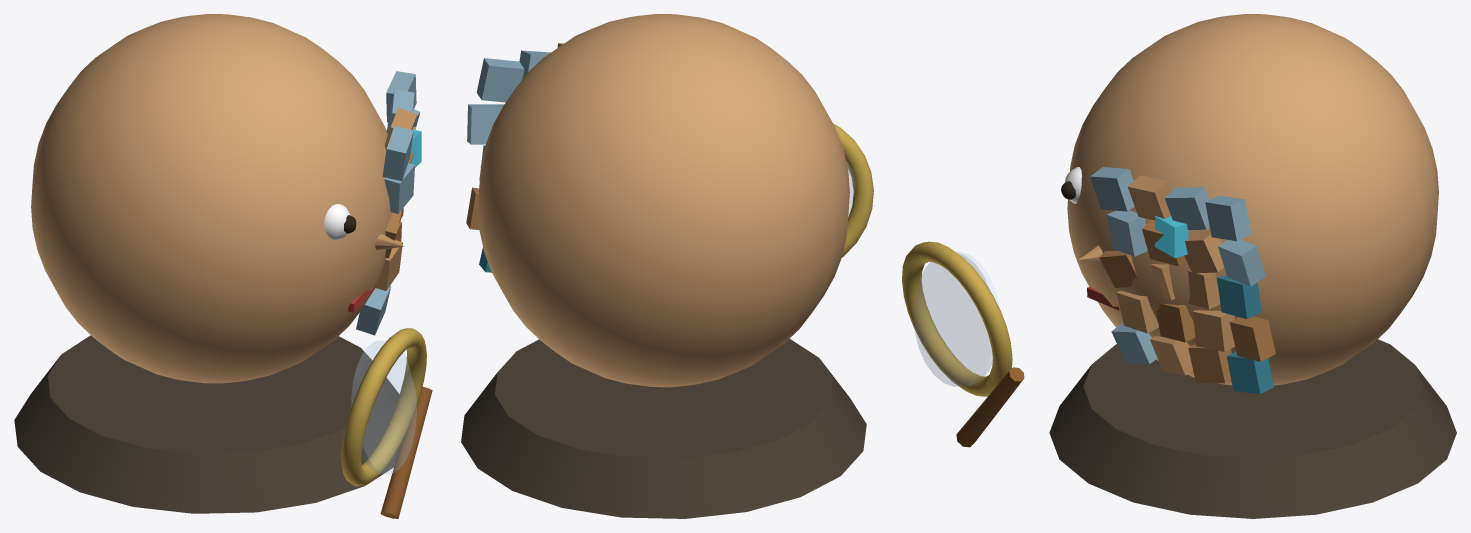
The model's file is deepfake.glb.
The picture shows the model from 3 angles, left to right: view 1: azimuth 30°, elevation 25°; view 2: azimuth 150°, elevation 25°; view 3: azimuth 270°, elevation 25°; orthographic projection.
Size of the model in its own units: 1.29 by 1.31 by 1.63.
